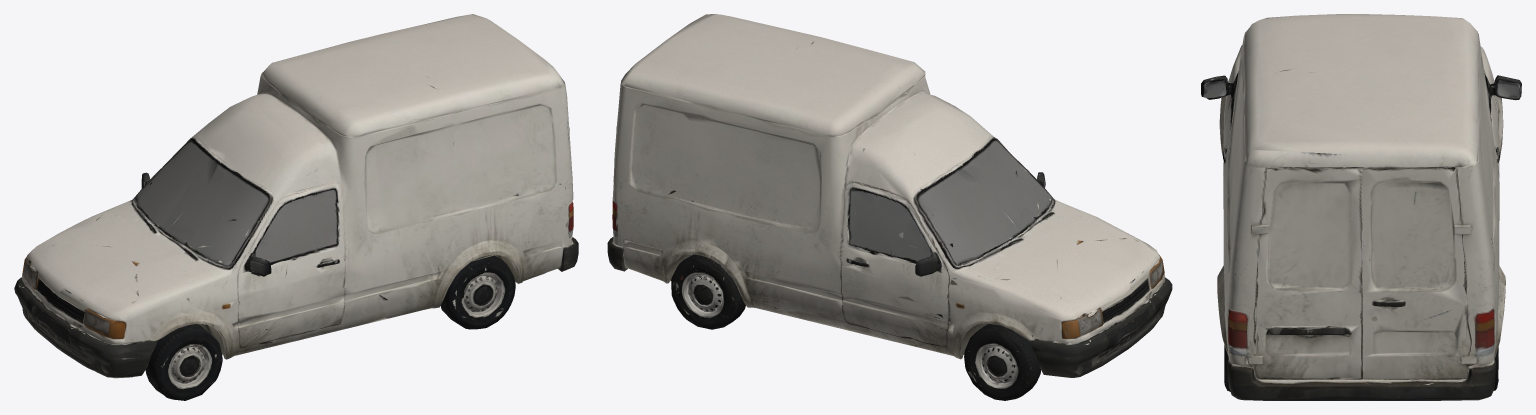
The model's file is fourgon.glb.
3 renders of one model, left to right at view 1: azimuth 30°, elevation 25°; view 2: azimuth 150°, elevation 25°; view 3: azimuth 270°, elevation 25°, orthographic. The views are drawn at different scales.
Size of the model in its own units: 1.9 by 0.8858 by 0.8521.
Materials: 1 (1 with a texture image).
